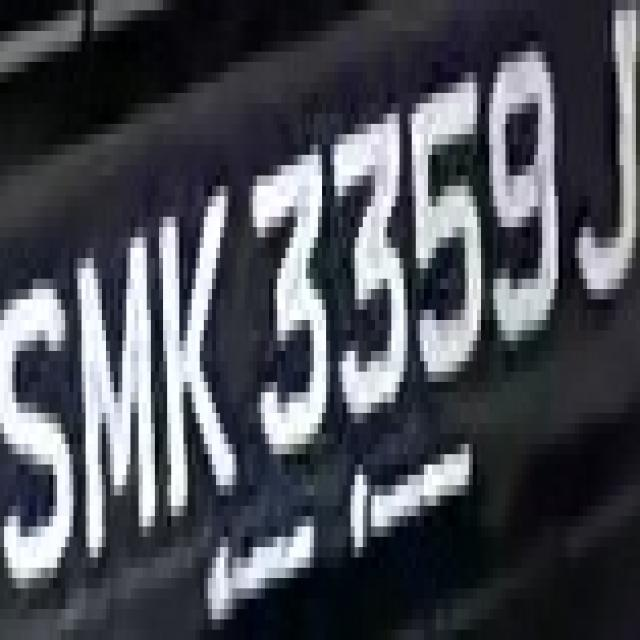3: (314, 114, 403, 454), (245, 124, 330, 454)
5: (400, 62, 498, 403)
9: (468, 21, 566, 361)
J: (558, 21, 640, 320)
K: (150, 175, 248, 537)
M: (61, 217, 163, 578)
S: (8, 237, 69, 578)
